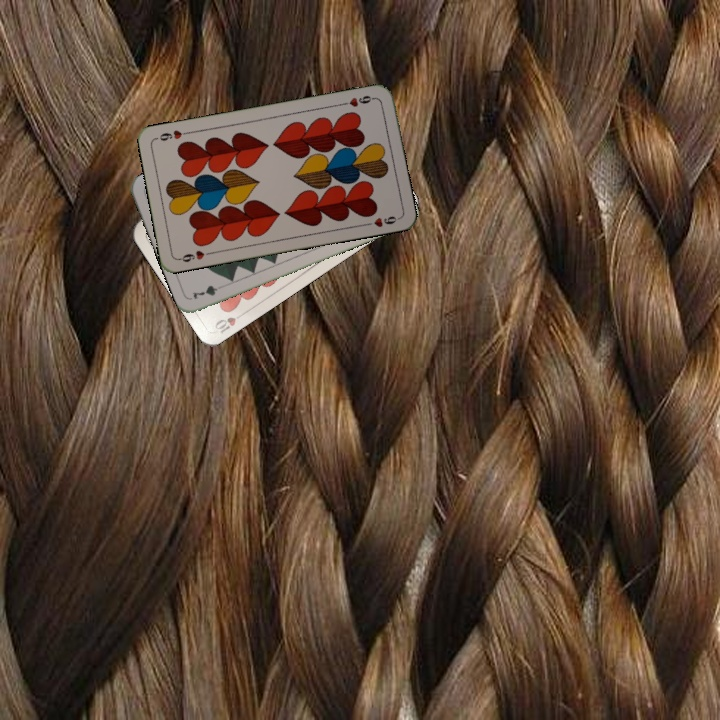G7: (188, 280, 228, 302)
H10: (211, 307, 249, 336)
H9: (175, 246, 215, 265), (338, 91, 378, 110)
